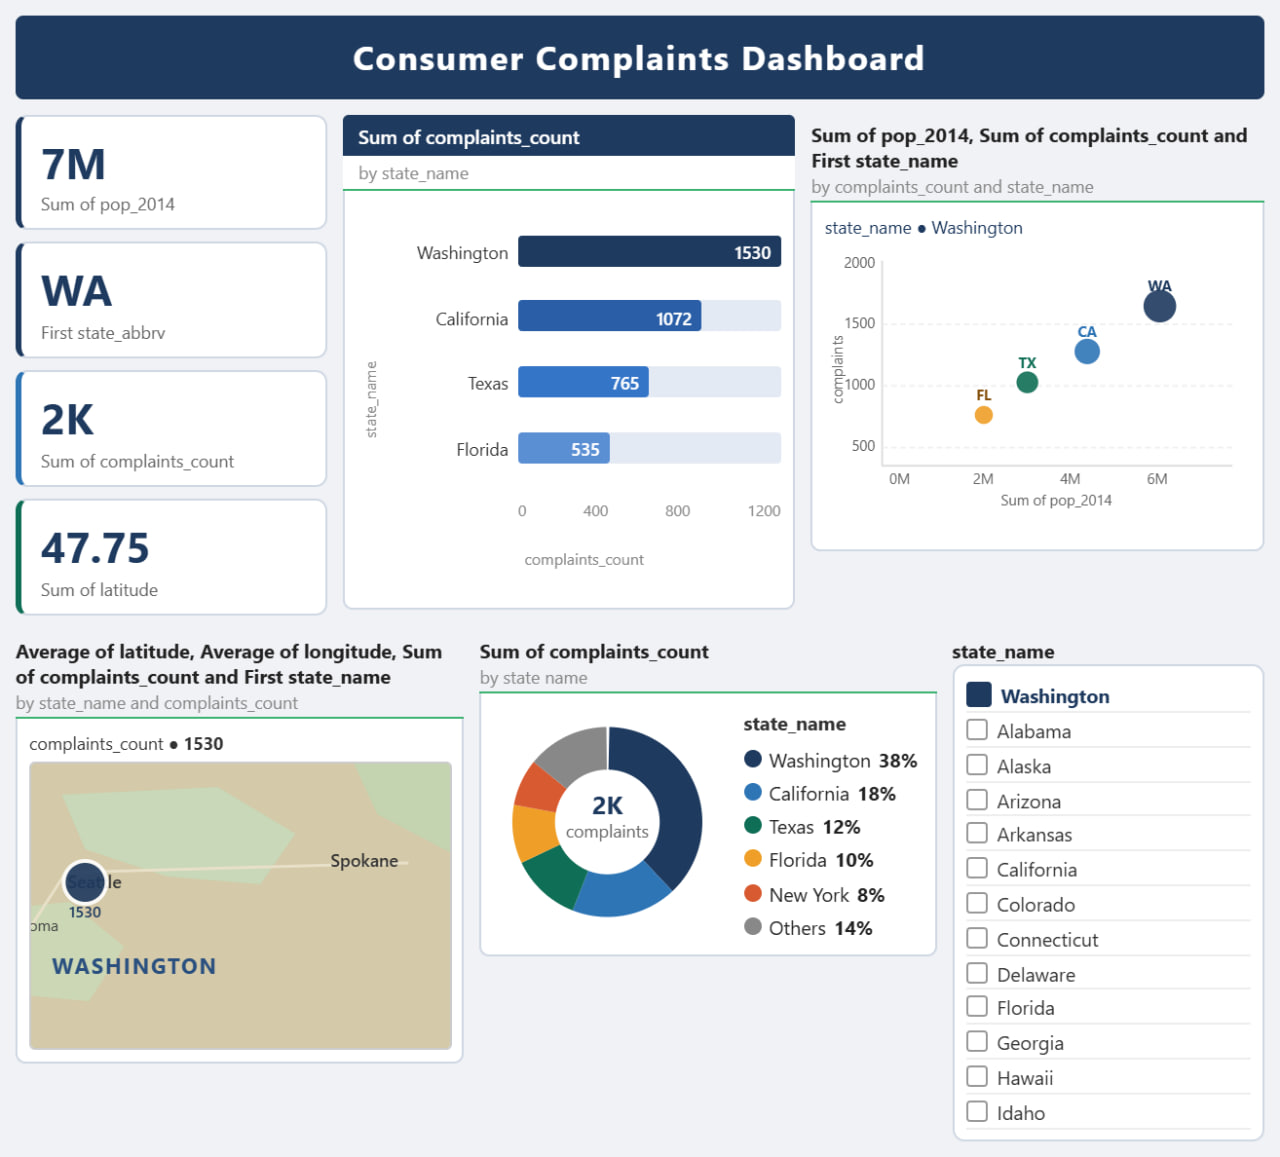

The page's visual inventory and layout, read from the dashboard file:
{"tool":"powerbi","page":{"name":"Page 1","canvas":[1604,1173],"ordinal":0},"visuals":[{"type":"clusteredBarChart","fields":{"Y":["Sum(part-00000-d688c800-c45d-4c17-9938-7b8abffb4f3e-c000.complaints_count)"],"Category":["part-00000-d688c800-c45d-4c17-9938-7b8abffb4f3e-c000.state_name"]},"box":[340,84,1244,320],"z":0},{"type":"cardVisual","fields":{"Data":["Sum(part-00000-d688c800-c45d-4c17-9938-7b8abffb4f3e-c000.complaints_count)"]},"box":[12,428,468,268],"z":1000},{"type":"cardVisual","fields":{"Data":["Min(part-00000-d688c800-c45d-4c17-9938-7b8abffb4f3e-c000.state_abbrv)"]},"box":[10,252,294,152],"z":2000},{"type":"cardVisual","fields":{"Data":["Sum(part-00000-d688c800-c45d-4c17-9938-7b8abffb4f3e-c000.pop_2014)"]},"box":[12,84,294,156],"z":3000},{"type":"cardVisual","fields":{"Data":["Sum(part-00000-d688c800-c45d-4c17-9938-7b8abffb4f3e-c000.latitude)"]},"box":[12,990,350,174],"z":4000},{"type":"map","fields":{"Category":["part-00000-d688c800-c45d-4c17-9938-7b8abffb4f3e-c000.state_name"],"Series":["part-00000-d688c800-c45d-4c17-9938-7b8abffb4f3e-c000.complaints_count"],"Y":["Avg(part-00000-d688c800-c45d-4c17-9938-7b8abffb4f3e-c000.latitude)"],"X":["Avg(part-00000-d688c800-c45d-4c17-9938-7b8abffb4f3e-c000.longitude)"],"Size":["Sum(part-00000-d688c800-c45d-4c17-9938-7b8abffb4f3e-c000.complaints_count)"]},"box":[12,708,1250,268],"z":5000},{"type":"donutChart","fields":{"Category":["part-00000-d688c800-c45d-4c17-9938-7b8abffb4f3e-c000.state_name"],"Y":["Sum(part-00000-d688c800-c45d-4c17-9938-7b8abffb4f3e-c000.complaints_count)"]},"box":[516,428,504,268],"z":6000},{"type":"scatterChart","fields":{"Y":["Sum(part-00000-d688c800-c45d-4c17-9938-7b8abffb4f3e-c000.complaints_count)"],"X":["Sum(part-00000-d688c800-c45d-4c17-9938-7b8abffb4f3e-c000.pop_2014)"],"Category":["part-00000-d688c800-c45d-4c17-9938-7b8abffb4f3e-c000.complaints_count"],"Size":["Sum(part-00000-d688c800-c45d-4c17-9938-7b8abffb4f3e-c000.complaints_count)"],"Series":["part-00000-d688c800-c45d-4c17-9938-7b8abffb4f3e-c000.state_name"]},"box":[1044,428,540,268],"z":7000},{"type":"slicer","fields":{"Values":["part-00000-d688c800-c45d-4c17-9938-7b8abffb4f3e-c000.state_name"]},"box":[1280,708,304,472],"z":8000},{"type":"textbox","title":"Consumer Complaints Dashboard","box":[0,0,1600,112],"z":9000}]}

Visuals, with their boxes in screenshot pixels (x1, y1, x2, y2):
clusteredBarChart - Sum(part-00000-d688c800-c45d-4c17-9938-7b8abffb4f3e-c000.complaints_count) x part-00000-d688c800-c45d-4c17-9938-7b8abffb4f3e-c000.state_name: 274/159/1253/411
cardVisual - Sum(part-00000-d688c800-c45d-4c17-9938-7b8abffb4f3e-c000.complaints_count): 16/430/384/641
cardVisual - Min(part-00000-d688c800-c45d-4c17-9938-7b8abffb4f3e-c000.state_abbrv): 15/292/246/411
cardVisual - Sum(part-00000-d688c800-c45d-4c17-9938-7b8abffb4f3e-c000.pop_2014): 16/159/247/282
cardVisual - Sum(part-00000-d688c800-c45d-4c17-9938-7b8abffb4f3e-c000.latitude): 16/872/292/1009
map - part-00000-d688c800-c45d-4c17-9938-7b8abffb4f3e-c000.state_name x part-00000-d688c800-c45d-4c17-9938-7b8abffb4f3e-c000.complaints_count: 16/651/1000/861
donutChart - part-00000-d688c800-c45d-4c17-9938-7b8abffb4f3e-c000.state_name x Sum(part-00000-d688c800-c45d-4c17-9938-7b8abffb4f3e-c000.complaints_count): 413/430/809/641
scatterChart - Sum(part-00000-d688c800-c45d-4c17-9938-7b8abffb4f3e-c000.complaints_count) x Sum(part-00000-d688c800-c45d-4c17-9938-7b8abffb4f3e-c000.pop_2014): 828/430/1253/641
slicer - part-00000-d688c800-c45d-4c17-9938-7b8abffb4f3e-c000.state_name: 1014/651/1253/1022
"Consumer Complaints Dashboard" textbox: 7/93/1266/181
